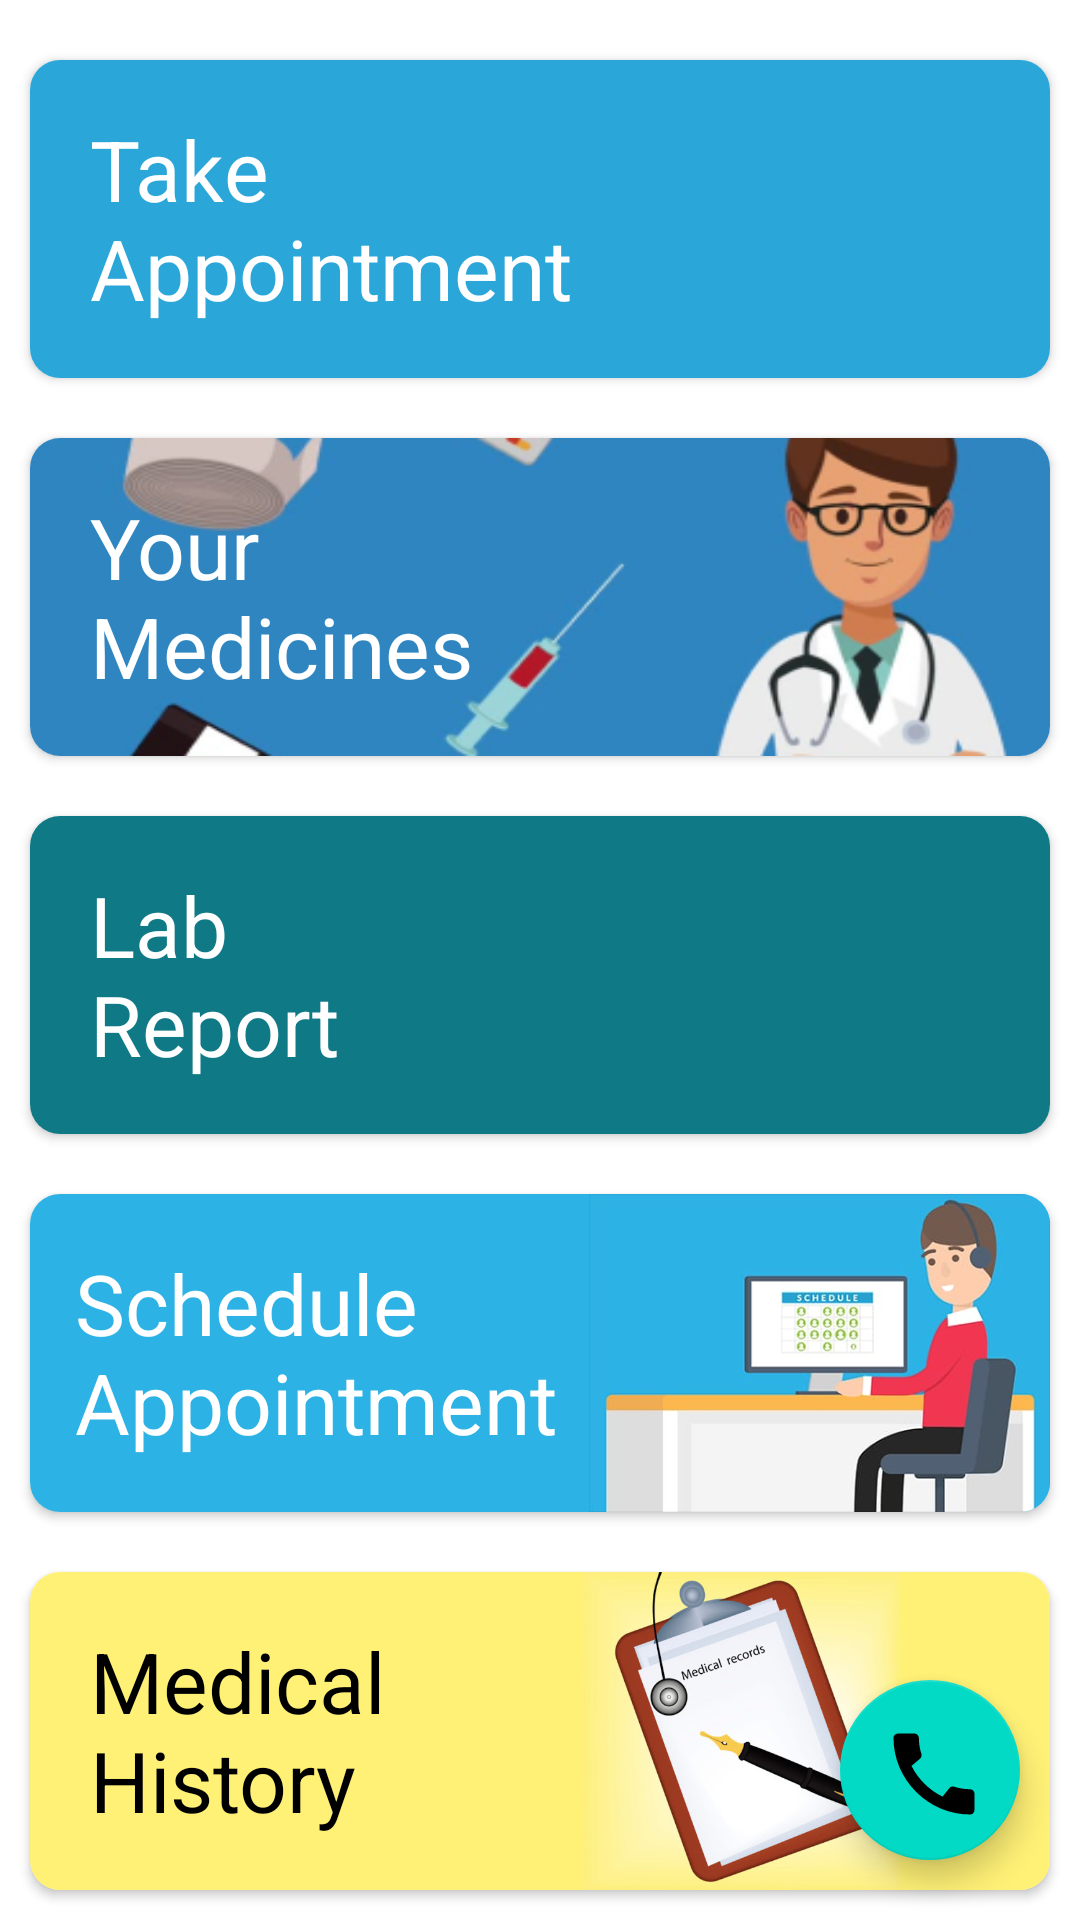

Screen size 1080px×1920px. Icon name, then its center in pixels as point (x, y):
call: point (930, 1770)
